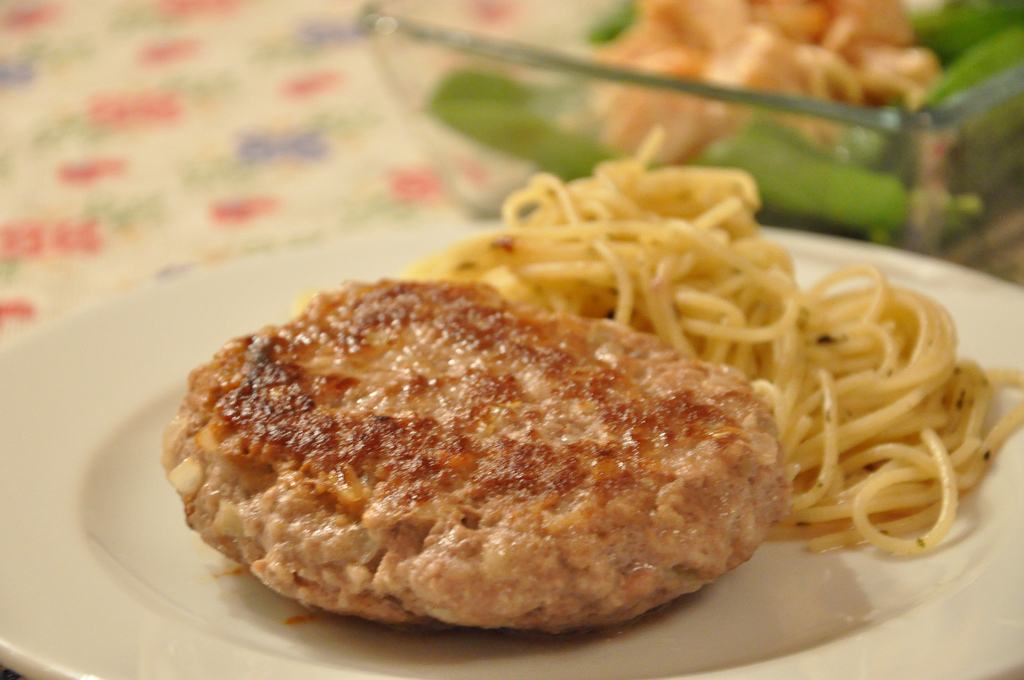meatballs: (177, 306, 801, 636)
plain spaghetti: (545, 170, 1020, 542)
